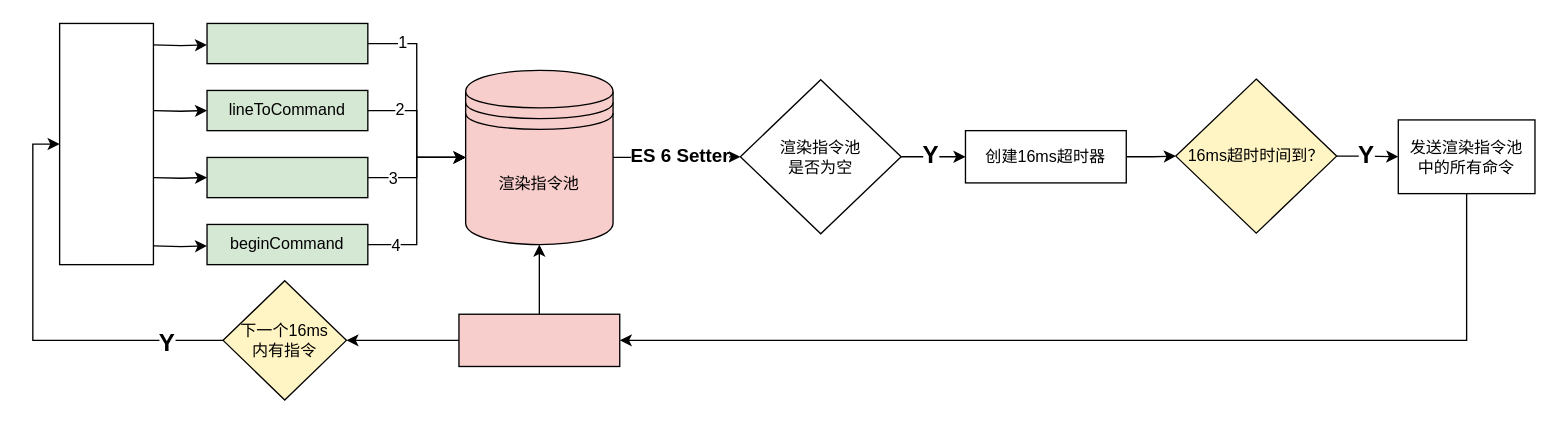
This 1558x423 diagram has some shape labels left out. Each missing label, with the centre of its shape:
"16ms内的api调用" goes at pixel 105 143.
"arcToCommand" goes at pixel 287 177.
"rectCommand" goes at pixel 287 43.
"清空渲染指令池" goes at pixel 539 339.
